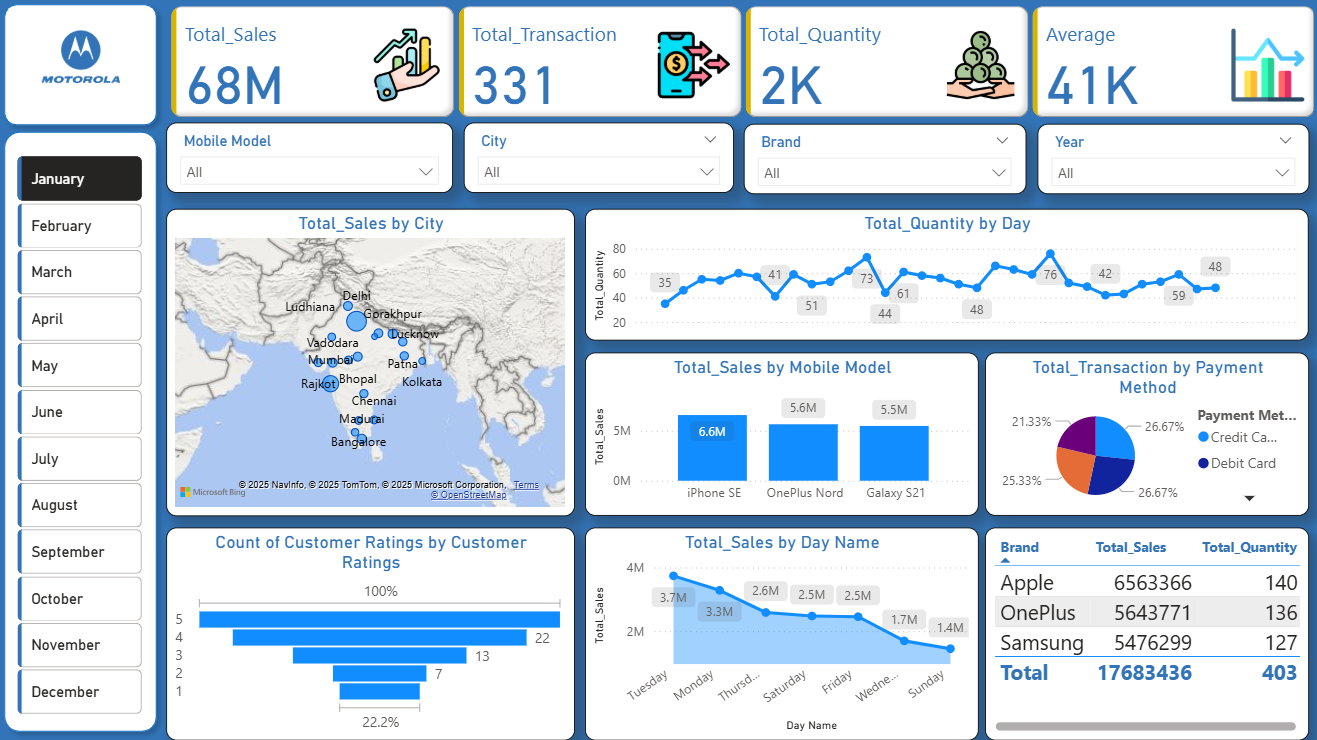

This screenshot's page, from the dashboard's own definition file:
{"tool":"powerbi","page":{"name":"Page 1","canvas":[1280,720],"ordinal":0},"visuals":[{"type":"shape","box":[0,0,165.2,134.8],"z":0},{"type":"image","box":[0,7.2,165.2,111.6],"z":1000},{"type":"shape","box":[0,123.2,165.2,597.1],"z":2000},{"type":"advancedSlicerVisual","fields":{"Values":["Sheet1.Date.Variation.Date Hierarchy.Month"]},"box":[17.4,150.7,130.4,550.7],"z":3000},{"type":"cardVisual","fields":{"Data":["Sales_Data.Total_Sales","Sales_Data.Total_Transaction","Sales_Data.Total_Quantity","Sales_Data.Average"]},"box":[165.2,5.8,1114.5,117.4],"z":4000},{"type":"map","fields":{"Category":["Sales_Data.City"],"Size":["Sales_Data.Total_Sales"]},"box":[165.2,205.8,394.2,297.1],"z":5000},{"type":"lineChart","fields":{"Y":["Sales_Data.Total_Quantity"],"Category":["Sales_Data.Date.Variation.Date Hierarchy.Month","Sales_Data.Date.Variation.Date Hierarchy.Day"]},"box":[569.6,205.8,698.6,127.5],"z":6000},{"type":"columnChart","fields":{"Y":["Sales_Data.Total_Sales"],"Category":["Sales_Data.Mobile Model"]},"box":[569.6,344.9,379.7,158],"z":7000},{"type":"pieChart","fields":{"Category":["Sales_Data.Payment Method"],"Y":["Sales_Data.Total_Transaction"]},"box":[955.1,344.9,313,158],"z":8000},{"type":"funnel","fields":{"Category":["Sales_Data.Customer Ratings"],"Y":["CountNonNull(Sales_Data.Customer Ratings)"]},"box":[165.2,514.5,394.2,205.8],"z":9000},{"type":"areaChart","fields":{"Y":["Sales_Data.Total_Sales"],"Category":["Sales_Data.Day Name"]},"box":[569.6,514.5,379.7,205.8],"z":10000},{"type":"tableEx","fields":{"Values":["Sales_Data.Brand","Sales_Data.Total_Sales","Sales_Data.Total_Quantity"]},"box":[955.1,514.5,313,205.8],"z":11000},{"type":"slicer","fields":{"Values":["Sales_Data.Mobile Model"]},"box":[165.2,123.2,276.8,68.1],"z":12000},{"type":"slicer","fields":{"Values":["Sales_Data.City"]},"box":[452.2,123.2,260.9,68.1],"z":13000},{"type":"slicer","fields":{"Values":["Sales_Data.Brand"]},"box":[723.2,124.6,272.5,68.1],"z":14000},{"type":"slicer","fields":{"Values":["Sales_Data.Date.Variation.Date Hierarchy.Year"]},"box":[1005.8,124.6,262.3,68.1],"z":15000}]}

Visuals, with their boxes in screenshot pixels (x1, y1, x2, y2), scaled from the page's 1280x720 canvas onto the 1317x740 screenshot:
shape: {"left": 0, "top": 0, "right": 170, "bottom": 139}
image: {"left": 0, "top": 7, "right": 170, "bottom": 122}
shape: {"left": 0, "top": 127, "right": 170, "bottom": 739}
advancedSlicerVisual - Sheet1.Date.Variation.Date Hierarchy.Month: {"left": 18, "top": 155, "right": 152, "bottom": 721}
cardVisual - Sales_Data.Total_Sales x Sales_Data.Total_Transaction: {"left": 170, "top": 6, "right": 1316, "bottom": 127}
map - Sales_Data.City x Sales_Data.Total_Sales: {"left": 170, "top": 212, "right": 576, "bottom": 517}
lineChart - Sales_Data.Total_Quantity x Sales_Data.Date.Variation.Date Hierarchy.Month: {"left": 586, "top": 212, "right": 1305, "bottom": 343}
columnChart - Sales_Data.Total_Sales x Sales_Data.Mobile Model: {"left": 586, "top": 354, "right": 977, "bottom": 517}
pieChart - Sales_Data.Payment Method x Sales_Data.Total_Transaction: {"left": 983, "top": 354, "right": 1305, "bottom": 517}
funnel - Sales_Data.Customer Ratings x CountNonNull(Sales_Data.Customer Ratings): {"left": 170, "top": 529, "right": 576, "bottom": 739}
areaChart - Sales_Data.Total_Sales x Sales_Data.Day Name: {"left": 586, "top": 529, "right": 977, "bottom": 739}
tableEx - Sales_Data.Brand x Sales_Data.Total_Sales: {"left": 983, "top": 529, "right": 1305, "bottom": 739}
slicer - Sales_Data.Mobile Model: {"left": 170, "top": 127, "right": 455, "bottom": 197}
slicer - Sales_Data.City: {"left": 465, "top": 127, "right": 734, "bottom": 197}
slicer - Sales_Data.Brand: {"left": 744, "top": 128, "right": 1024, "bottom": 198}
slicer - Sales_Data.Date.Variation.Date Hierarchy.Year: {"left": 1035, "top": 128, "right": 1305, "bottom": 198}
